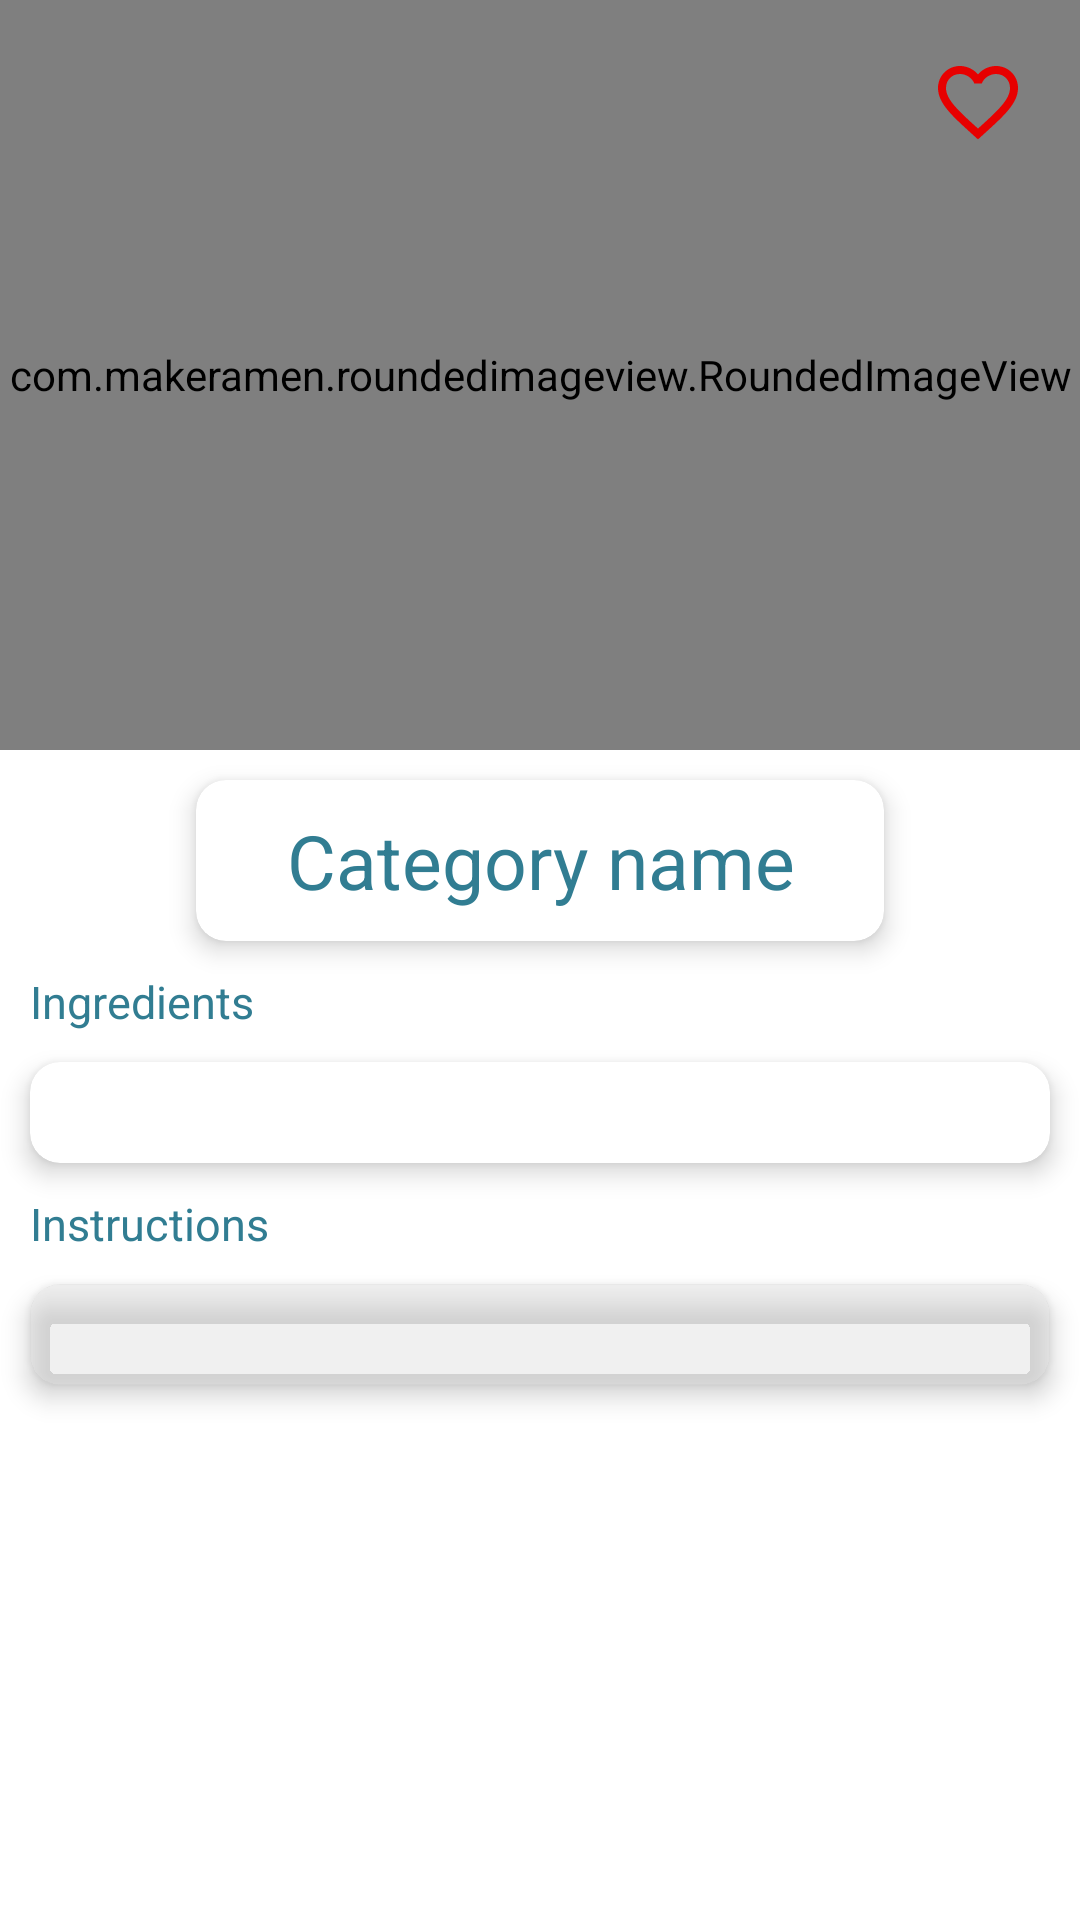

Icons on this 1080px×1920px Android screen, each with its box as (x1, y1, x2, y2):
not favorite: (938, 66, 1018, 139)
